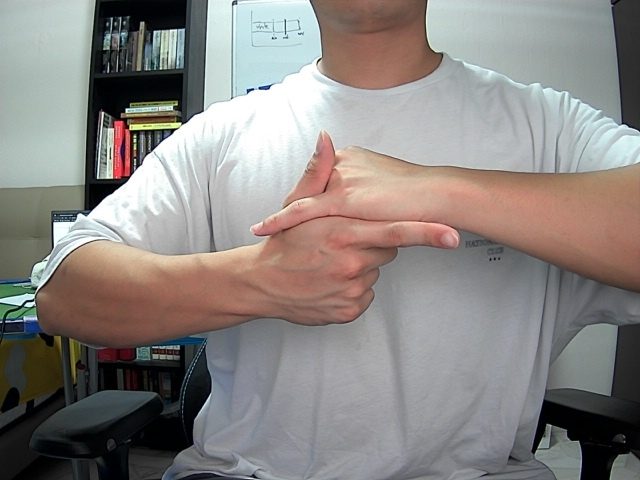Hare: (245, 119, 471, 332)
